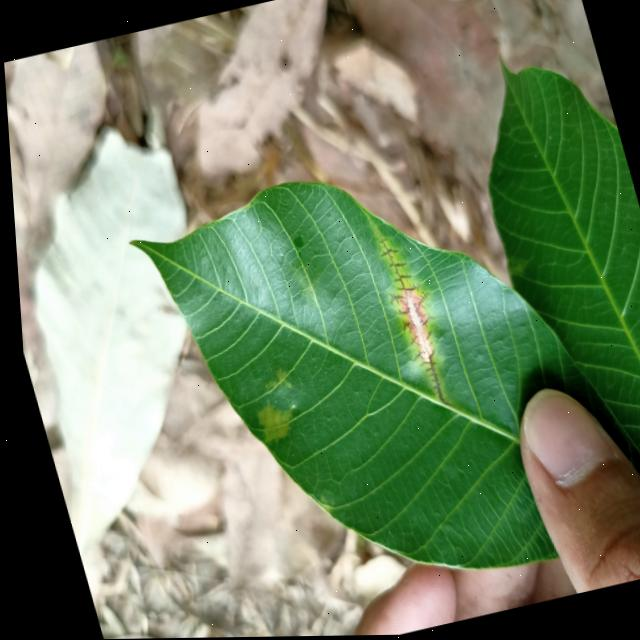Corynespora: (365, 224, 453, 410)
